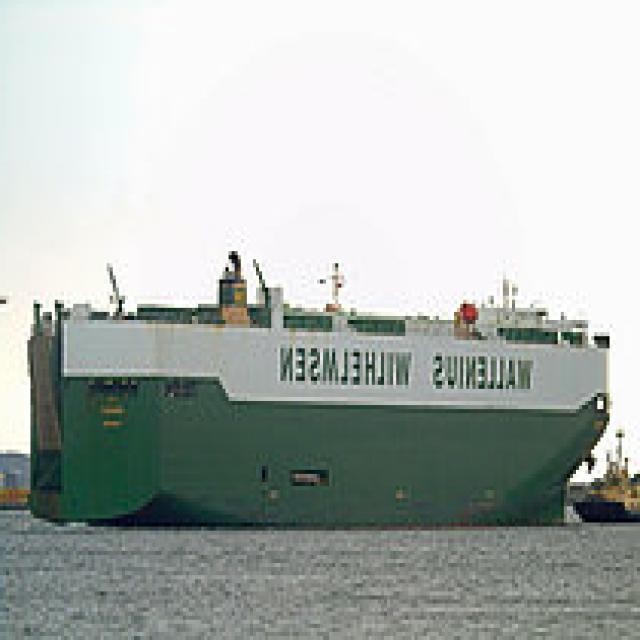Carrier: (24, 239, 622, 531)
